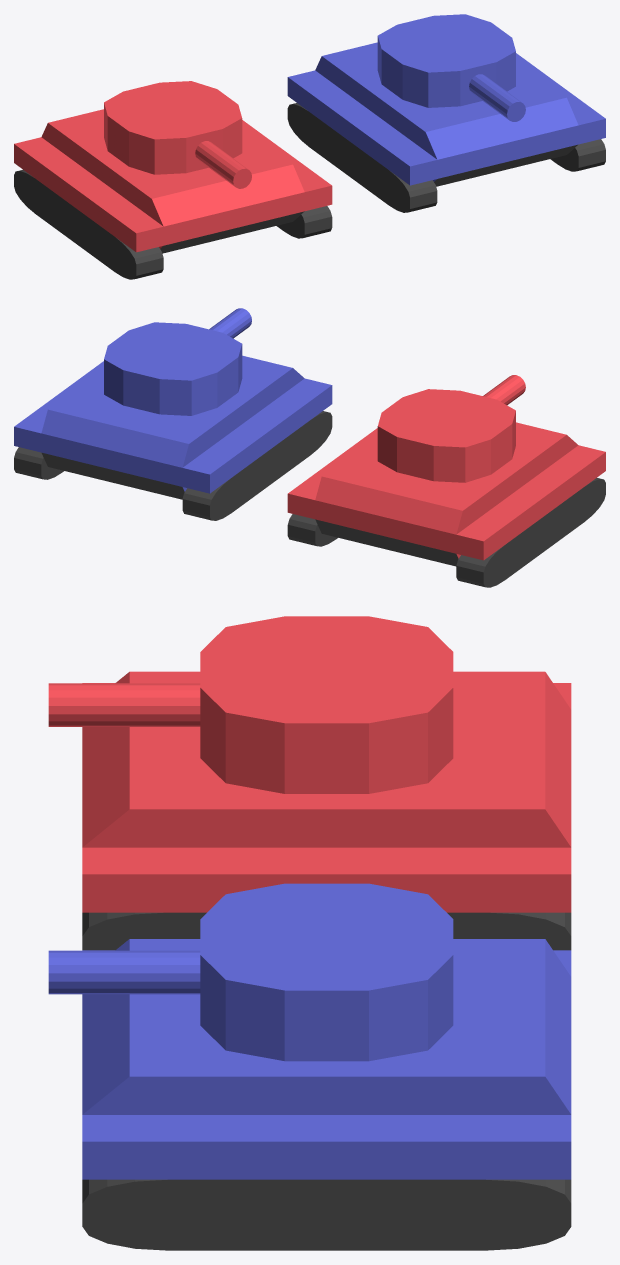
File: tank.glb
3 renders of one model, top to bottom at view 1: azimuth 30°, elevation 25°; view 2: azimuth 150°, elevation 25°; view 3: azimuth 270°, elevation 25°, orthographic. The views are drawn at different scales.
Parts seen in each view (by area): view 1: Cube.001, Cube; view 2: Cube.001, Cube; view 3: Cube.001, Cube.
Part boxes in pixels (<box>): Cube.001: <box>287,14,605,212</box>; Cube: <box>14,81,332,279</box>; Cube.001: <box>14,308,332,520</box>; Cube: <box>287,375,605,587</box>; Cube.001: <box>48,883,571,1250</box>; Cube: <box>48,616,571,950</box>.
Size of the model in its own units: 8.58 by 1.9 by 4.13.
